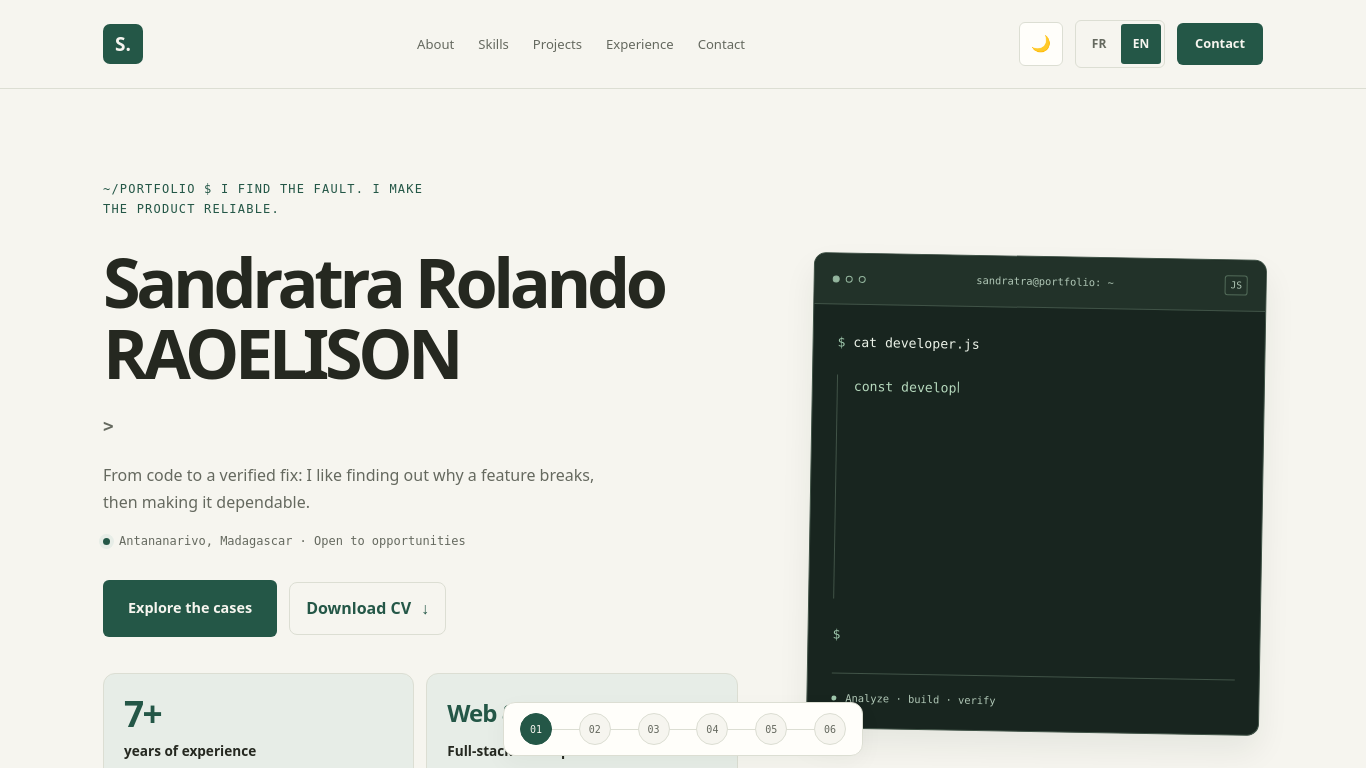
Test: UI interactions: mobile nav, language, theme › switches language and updates the document language
Click the button "EN". click: x=1141, y=44
box: [1121,24,1161,64]
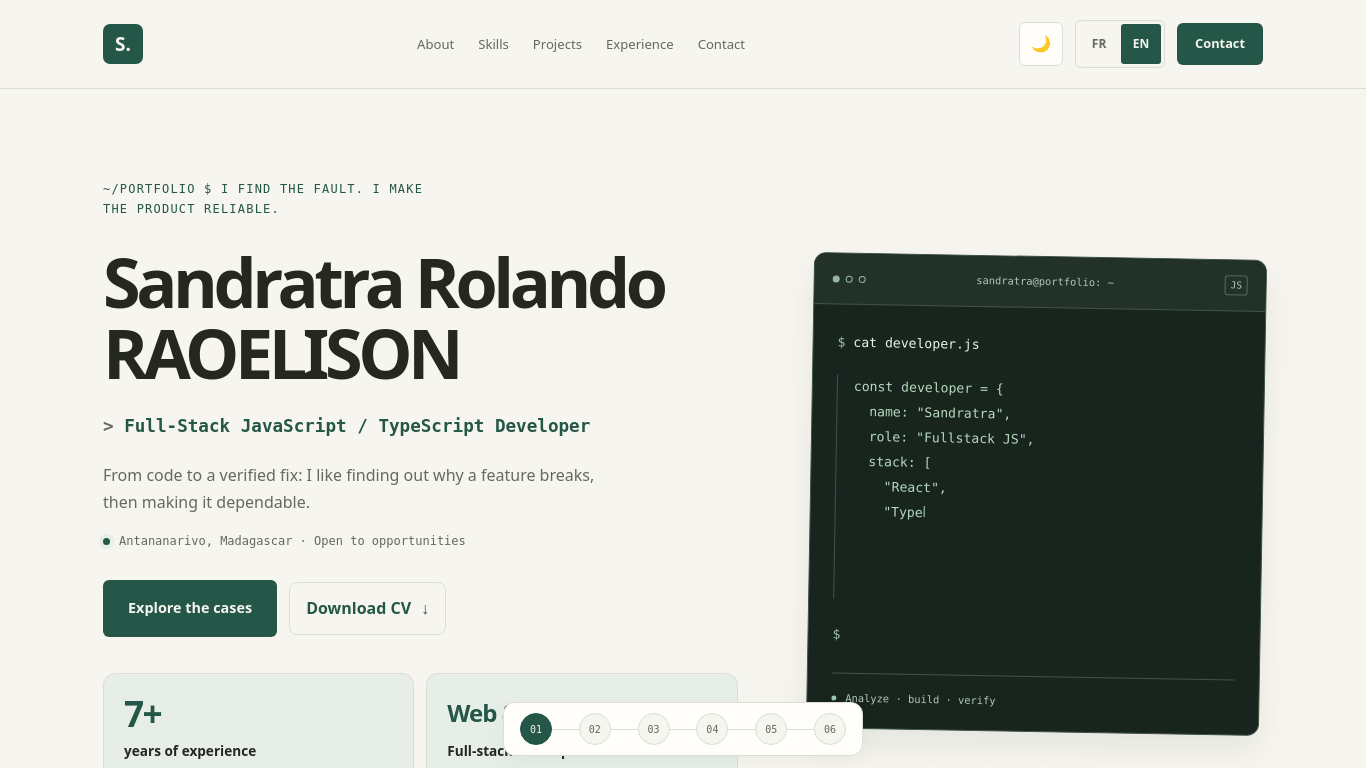
Check: the link "About" is shown, box [417,33,454,55]
Click the button "FR". click: x=1099, y=44
box: [1079,24,1119,64]
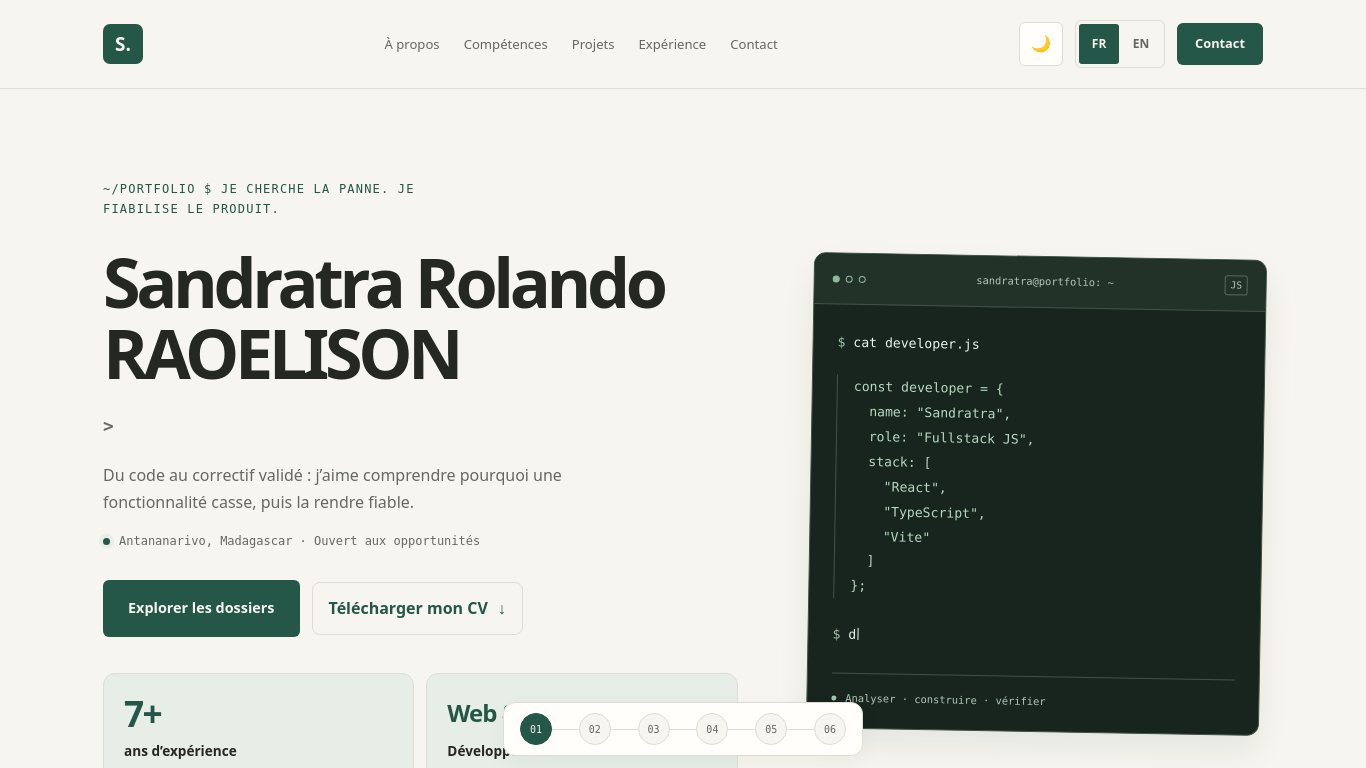
Check: the link "À propos" is shown, box [384,33,440,55]
